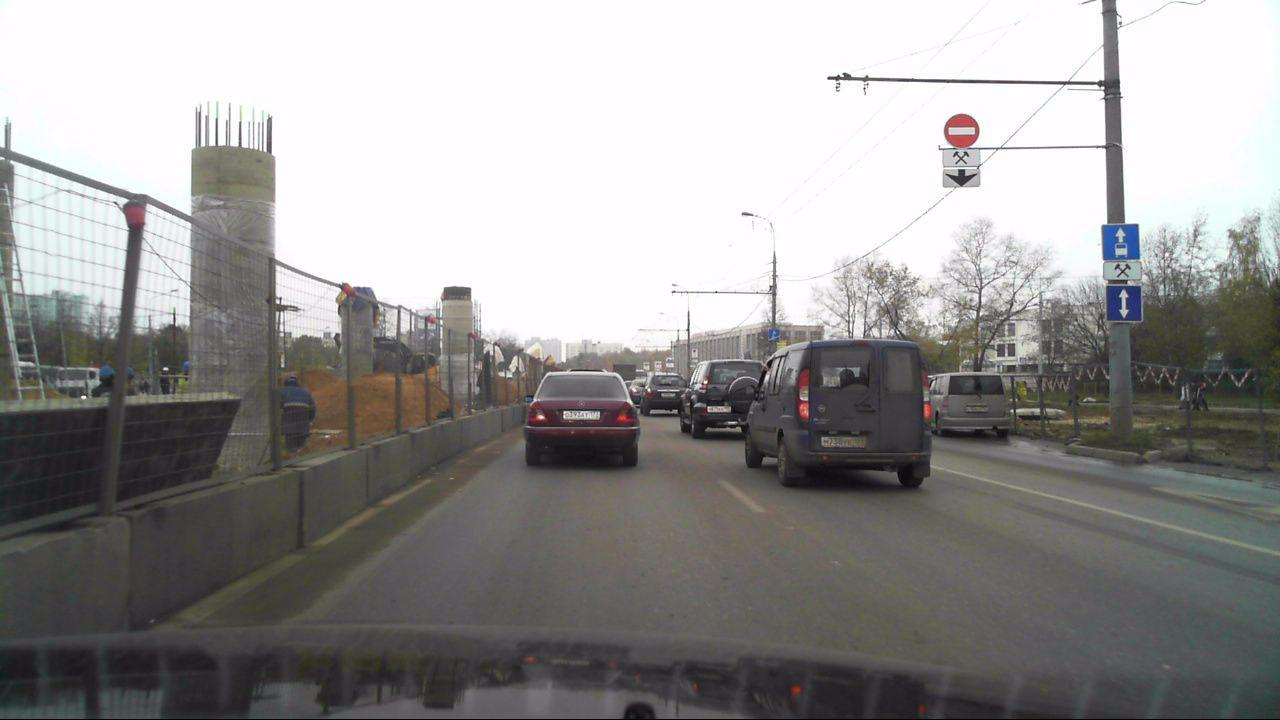3_1: (940, 113, 980, 148)
5_14_1: (1101, 224, 1141, 259)
5_8: (1106, 286, 1142, 322)
6_6: (766, 326, 780, 341)
8_14: (942, 167, 983, 187)
8_5_2: (1102, 261, 1145, 282), (941, 147, 981, 168)
